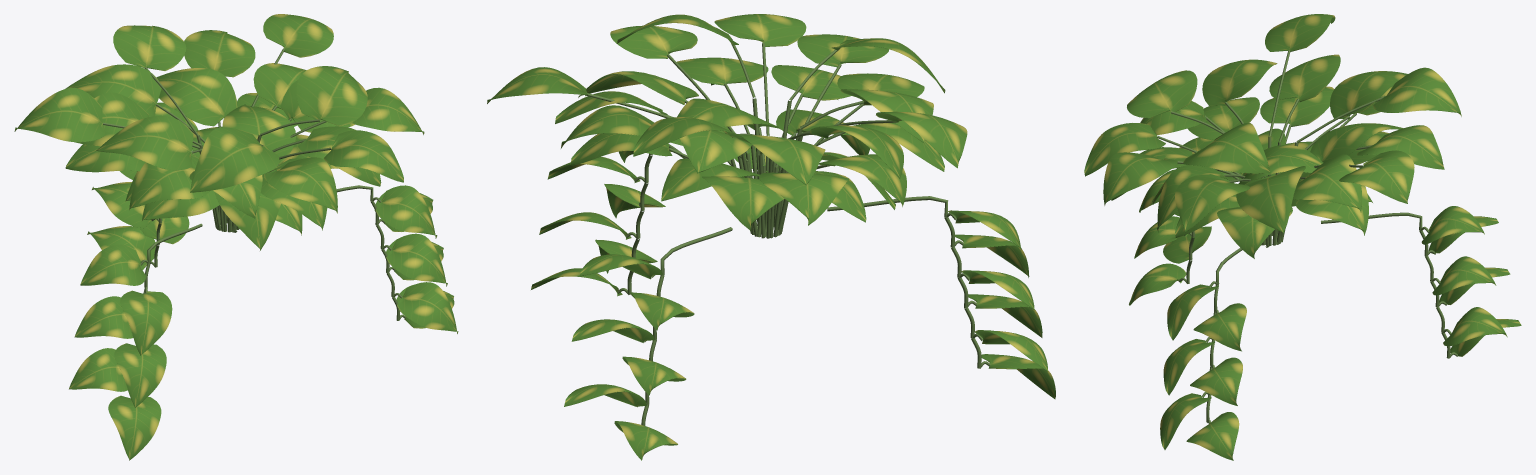
File: pothos-stage-7.glb
3 views of the same model, side by side, from view 1: azimuth 30°, elevation 25°; view 2: azimuth 150°, elevation 25°; view 3: azimuth 270°, elevation 25° (orthographic). The views are drawn at different scales.
Visible parts, largest first — view 1: Leaf_26, Leaf_23, Leaf_29, Leaf_14, Leaf_28, PlantBranches, Leaf_25, Leaf_22, Leaf_18, Leaf_17, Leaf_21, Leaf_33 (+26 smaller); view 2: PlantBranches, Leaf_12, Leaf_9, Leaf_21, Leaf_17, Leaf_28, Leaf_24, Leaf_14, Leaf_18, Leaf_16, Leaf_22, Leaf_27 (+32 smaller); view 3: PlantBranches, Leaf_29, Leaf_25, Leaf_11, Leaf_27, Leaf_19, Leaf_24, Leaf_21, Leaf_26, Leaf_23, Leaf_17, Leaf_18 (+28 smaller).
Part boxes in pixels (x1,y1,x2,y2): Leaf_26: [190, 127, 279, 192]; Leaf_23: [96, 115, 193, 170]; Leaf_29: [296, 66, 367, 126]; Leaf_14: [156, 68, 237, 126]; Leaf_28: [14, 88, 105, 142]; PlantBranches: [103, 48, 405, 320]; Leaf_25: [113, 25, 186, 70]; Leaf_22: [184, 30, 255, 77]; Leaf_18: [264, 157, 337, 213]; Leaf_17: [65, 64, 161, 116]; Leaf_21: [323, 130, 403, 182]; Leaf_33: [120, 290, 172, 355]; PlantBranches: [585, 43, 990, 425]; Leaf_12: [759, 172, 848, 225]; Leaf_9: [702, 176, 784, 230]; Leaf_21: [714, 14, 806, 46]; Leaf_17: [735, 134, 825, 184]; Leaf_28: [876, 111, 967, 168]; Leaf_24: [610, 25, 697, 58]; Leaf_14: [679, 130, 752, 173]; Leaf_18: [797, 34, 888, 67]; Leaf_16: [677, 57, 768, 85]; Leaf_22: [561, 105, 654, 148]; Leaf_27: [487, 67, 587, 103]; PlantBranches: [1157, 50, 1457, 423]; Leaf_29: [1183, 123, 1270, 173]; Leaf_25: [1373, 67, 1461, 116]; Leaf_11: [1236, 166, 1305, 233]; Leaf_27: [1339, 150, 1414, 203]; Leaf_19: [1293, 154, 1362, 212]; Leaf_24: [1175, 174, 1249, 232]; Leaf_21: [1103, 152, 1177, 205]; Leaf_26: [1127, 70, 1197, 118]; Leaf_23: [1202, 59, 1277, 105]; Leaf_17: [1330, 71, 1407, 119]; Leaf_18: [1084, 123, 1165, 176].
Bounding box in the file's own units: 3.28 × 2.29 × 2.97.
2 materials, 1 textured.
